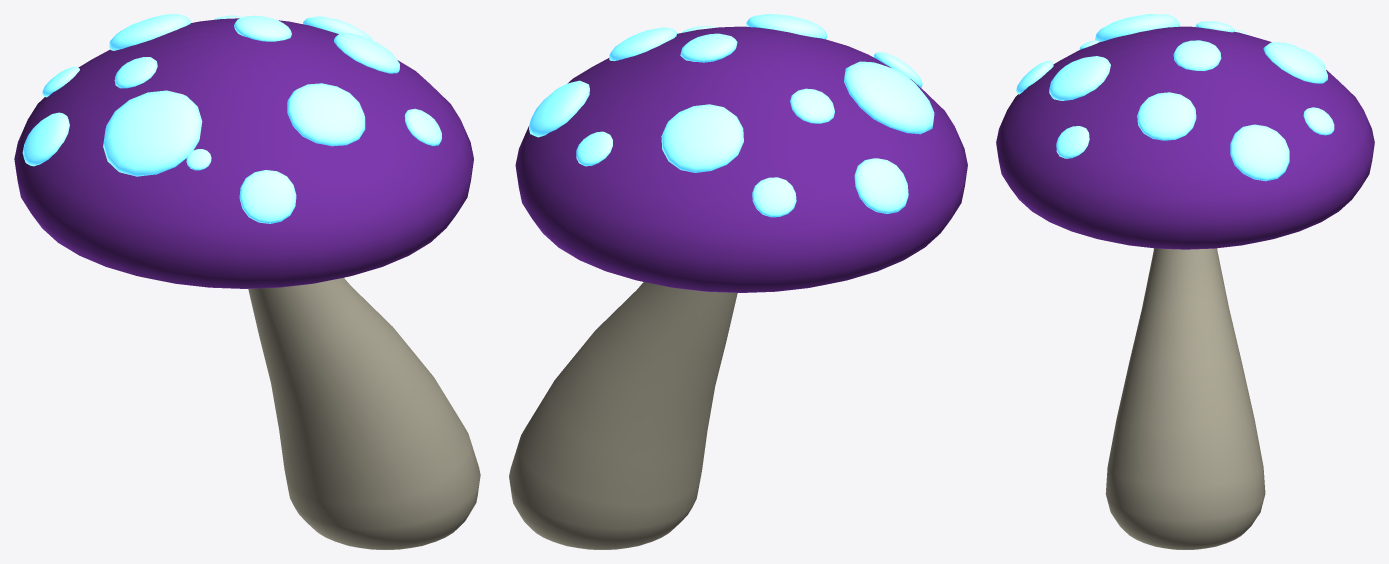
Rendered from Гриб-Свет2+_UV+_Запёкшийся.fbx.
3 views of the same model, side by side, from view 1: azimuth 30°, elevation 25°; view 2: azimuth 150°, elevation 25°; view 3: azimuth 270°, elevation 25° (orthographic). The views are drawn at different scales.
Visible parts, largest first — view 1: Mushroom light2; view 2: Mushroom light2; view 3: Mushroom light2.
Part boxes in pixels (x1,y1,x2,y2): Mushroom light2: [14, 14, 480, 549]; Mushroom light2: [509, 14, 967, 549]; Mushroom light2: [996, 14, 1374, 549].
Bounding box in the file's own units: 259 × 307 × 244.
Materials: 1 (1 with a texture image).
